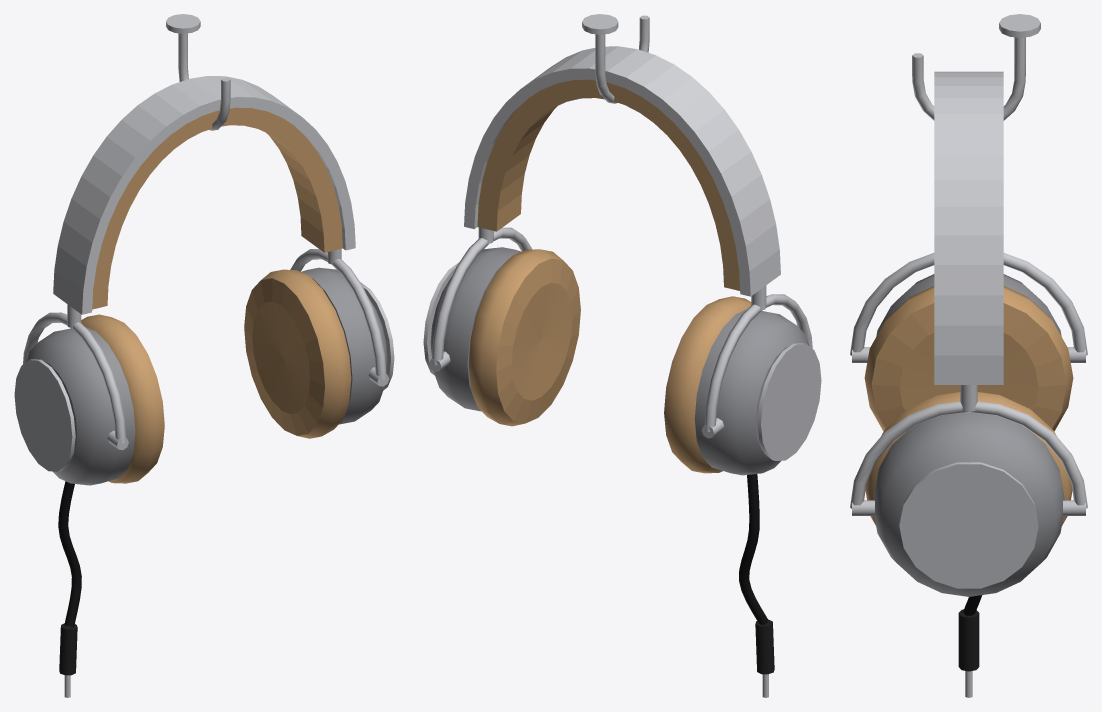
File: headphones.glb
3 views of the same model, side by side, from view 1: azimuth 30°, elevation 25°; view 2: azimuth 150°, elevation 25°; view 3: azimuth 270°, elevation 25° (orthographic). The views are drawn at different scales.
Visible parts, largest first — view 1: headphones; view 2: headphones; view 3: headphones.
Part boxes in pixels (box(x1,y1,x2,y2)): headphones: box(14, 14, 394, 697); headphones: box(423, 14, 821, 697); headphones: box(850, 14, 1087, 697).
Bounding box in the file's own units: 0.193 × 0.3585 × 0.1026.
Materials: 1 (1 with a texture image).
